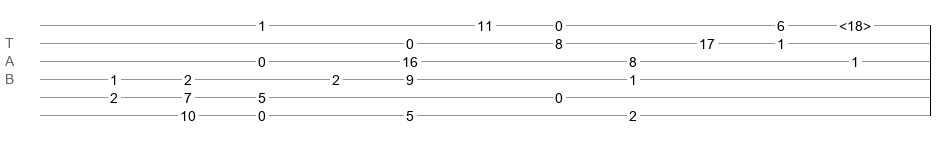0: (258, 54, 266, 64), (258, 108, 266, 118), (406, 36, 414, 46), (555, 18, 563, 28), (555, 90, 563, 100)
1: (110, 72, 118, 82), (258, 18, 266, 28), (629, 72, 637, 82), (777, 36, 785, 46), (851, 54, 859, 64)
10: (180, 108, 196, 118)
11: (477, 18, 493, 28)
16: (402, 54, 418, 64)
17: (699, 36, 715, 46)
2: (110, 90, 118, 100), (184, 72, 192, 82), (332, 72, 340, 82), (629, 108, 637, 118)
5: (258, 90, 266, 100), (406, 108, 414, 118)
6: (777, 18, 785, 28)
7: (184, 90, 192, 100)
8: (555, 36, 563, 46), (629, 54, 637, 64)
9: (406, 72, 414, 82)
harmonic: (839, 18, 871, 28)
